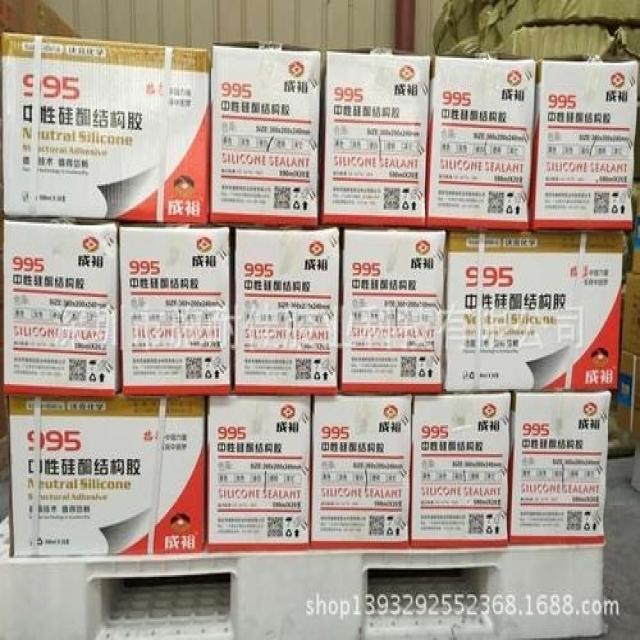box: (1, 32, 209, 225), (4, 396, 207, 556), (444, 232, 626, 393), (1, 218, 118, 398), (210, 41, 320, 229), (321, 48, 431, 229), (426, 53, 536, 232), (119, 225, 232, 398), (530, 58, 639, 232), (339, 229, 447, 394), (234, 229, 340, 394), (206, 396, 311, 555), (509, 391, 612, 544), (311, 396, 412, 550), (411, 394, 511, 548)
